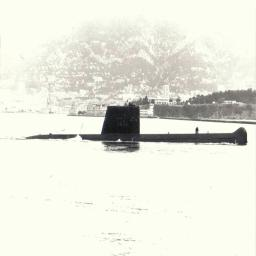submarine: (26, 105, 256, 139)
